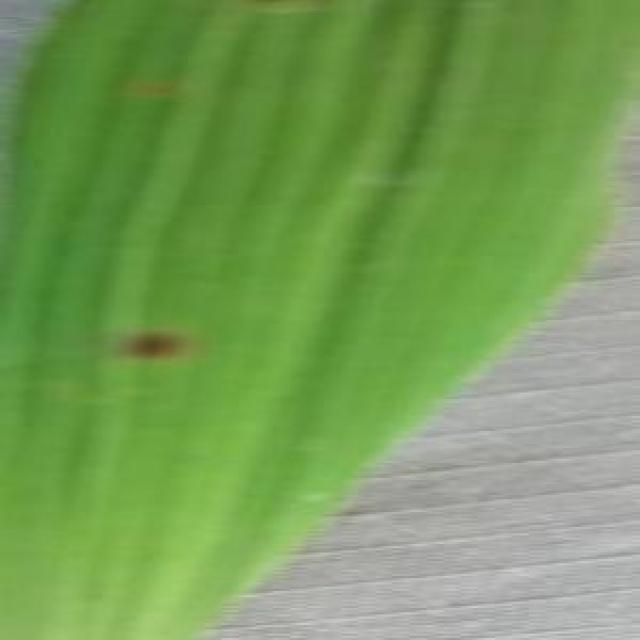brownspots: (126, 326, 194, 369)
